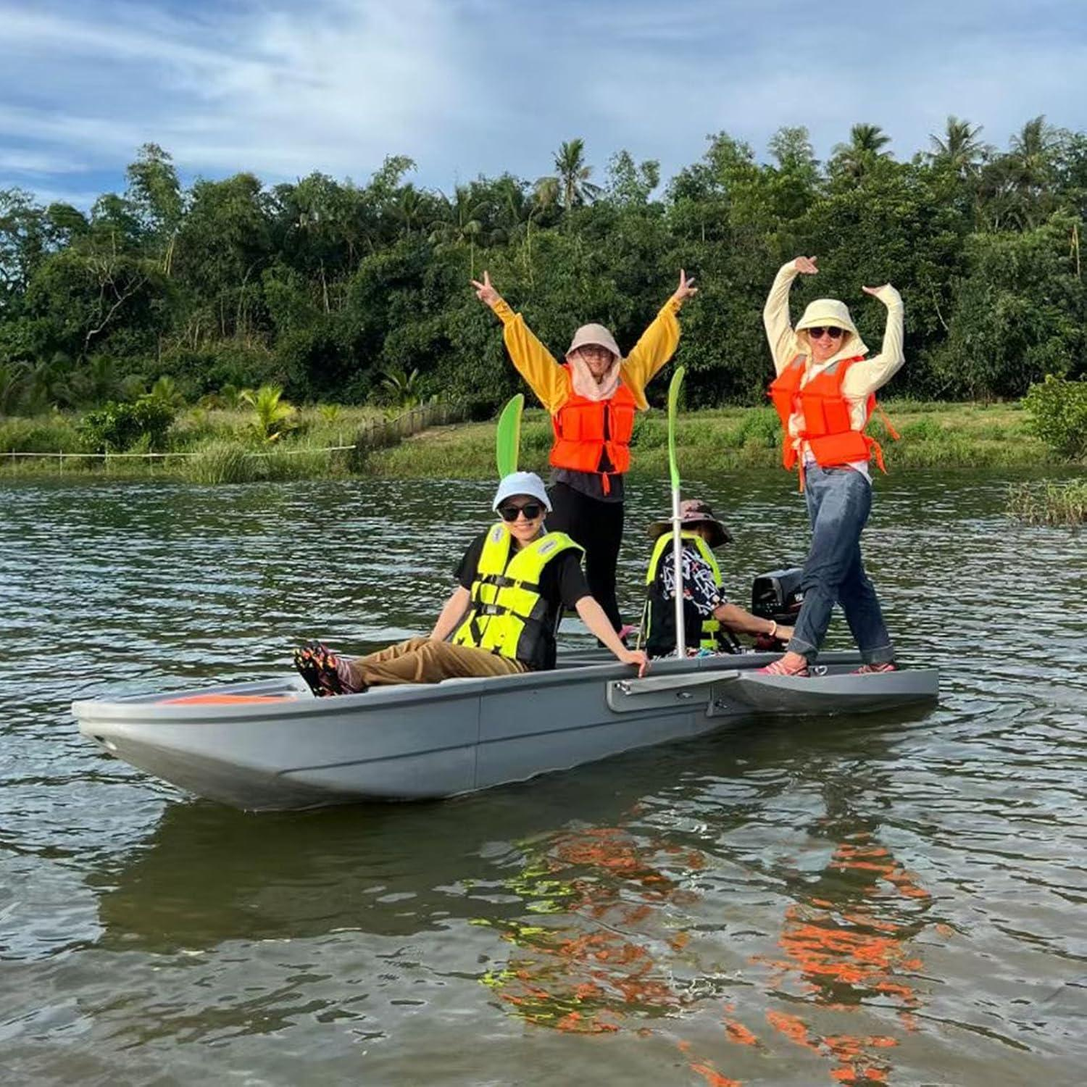fishing boat: (61, 254, 945, 819)
